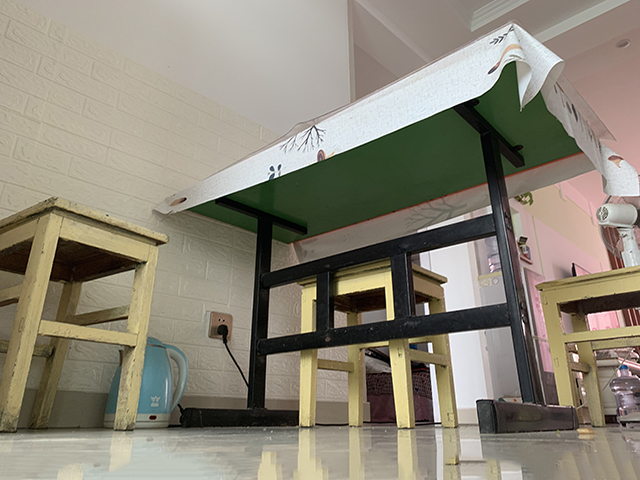stool: (1, 194, 171, 434), (296, 259, 460, 431), (533, 262, 640, 429)
table: (150, 16, 619, 435)
wire: (216, 325, 248, 388)
